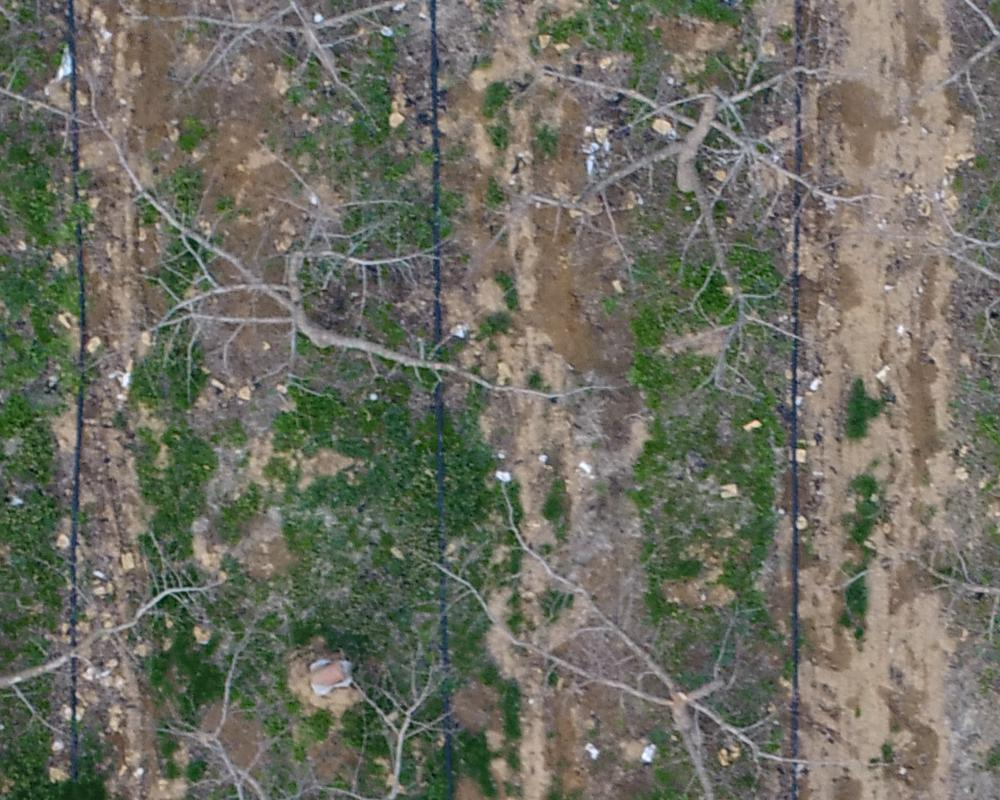apple: (94, 112, 629, 459), (440, 484, 838, 790), (514, 39, 890, 360), (140, 615, 493, 790), (105, 10, 473, 127)
